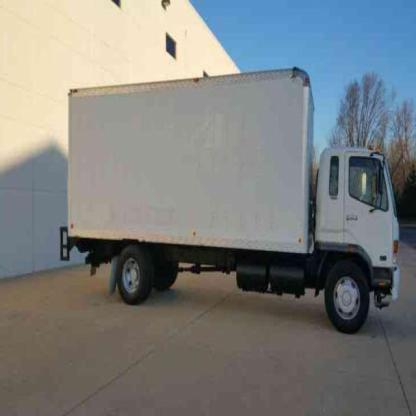truck: (60, 66, 402, 333)
